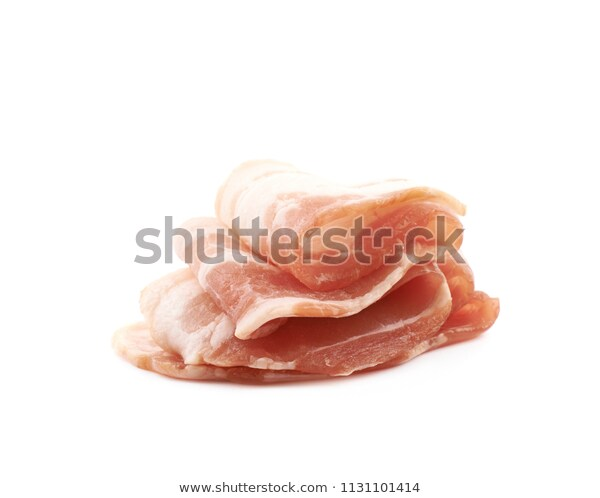bacon: (129, 149, 524, 394)
